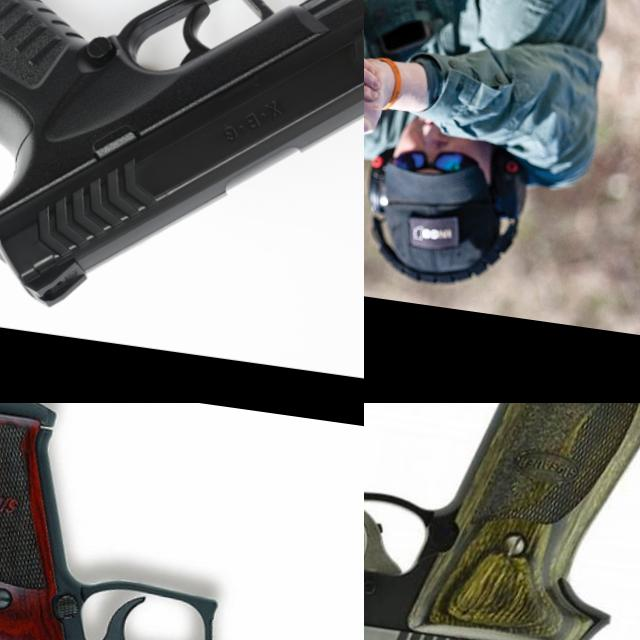handgun: (0, 0, 364, 370), (0, 403, 364, 640), (364, 403, 640, 640), (364, 94, 399, 160)
